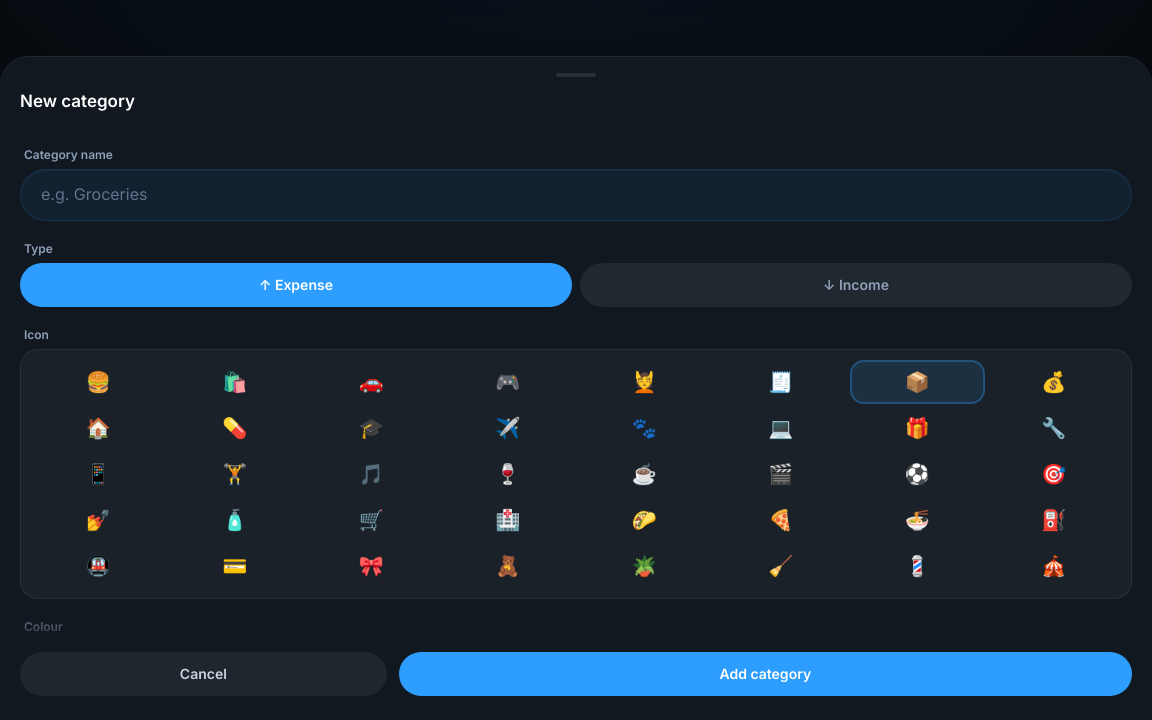
Scenario: a name that is already taken › stops saying it once the name is changed
Type "Food" into the field labelled "Category name".
click(576, 194); type("Food")  # box x1=41 y1=183 x2=1111 y2=206
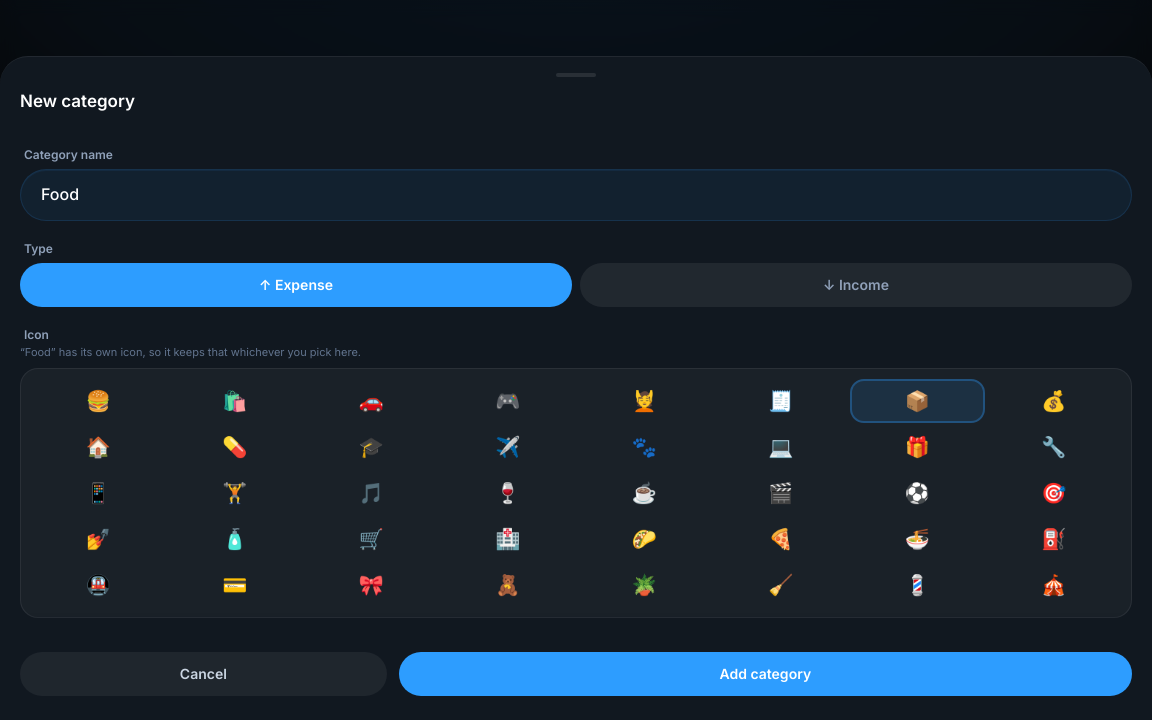
Click the button "Add category".
click(765, 674)  # box x1=399 y1=652 x2=1132 y2=696
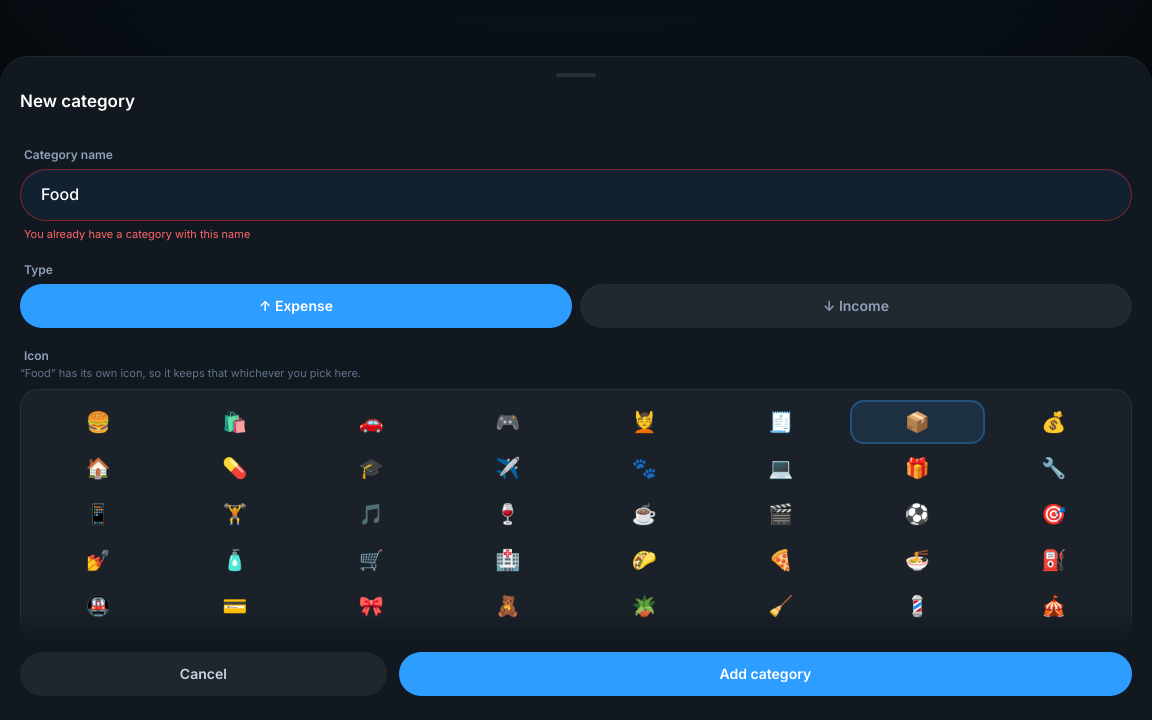
expect the text "You already have a category with this name" is shown: met, box x1=24 y1=226 x2=250 y2=240
Replace the text in the field labelled "Category name" with "Foodie" at (576, 194), box x1=41 y1=183 x2=1111 y2=206
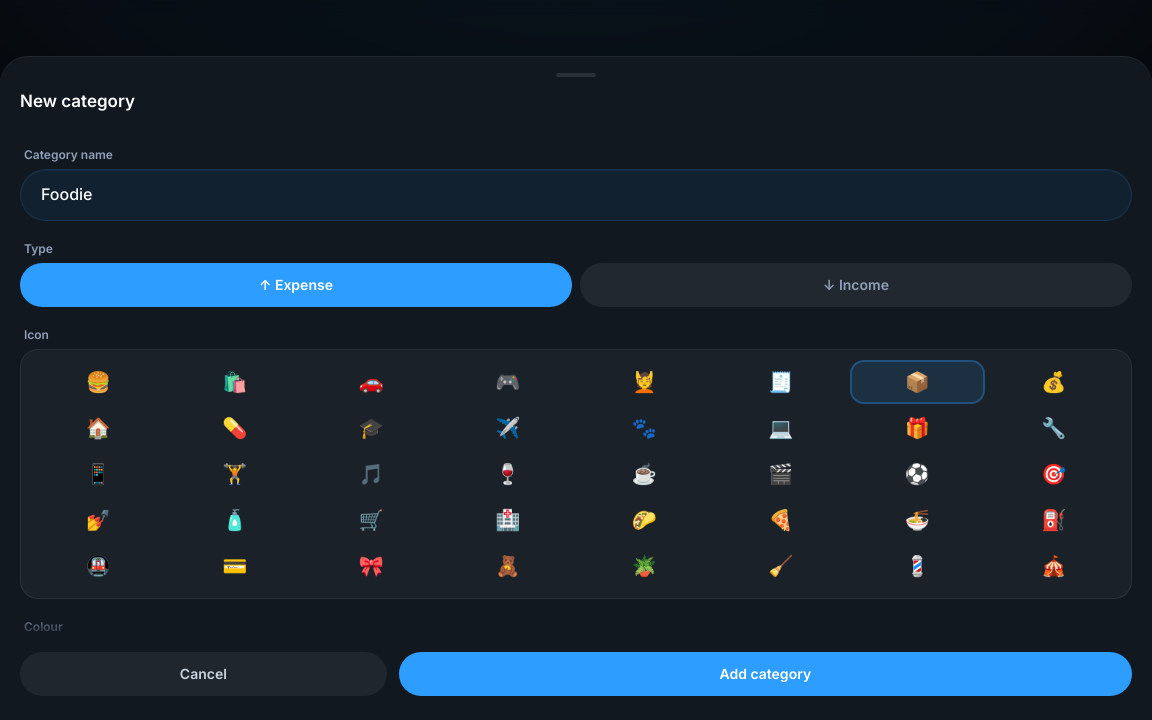
expect the text "You already have a category with this name" is gone: met
